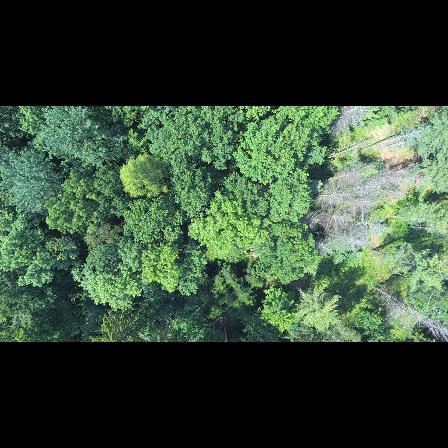Dead: (371, 283, 448, 338), (322, 106, 369, 136), (364, 130, 419, 152), (371, 167, 429, 187), (341, 214, 392, 236), (321, 228, 366, 251), (322, 161, 366, 184), (313, 208, 351, 229), (336, 180, 385, 195), (315, 186, 353, 201)
